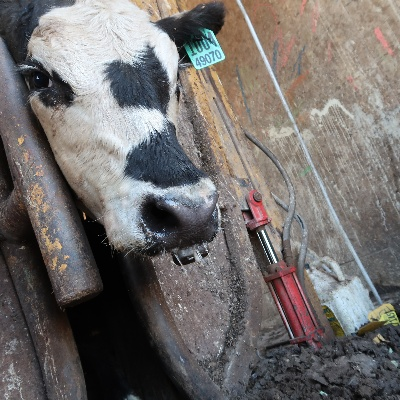fidget_spinner: (140, 177, 236, 265)
